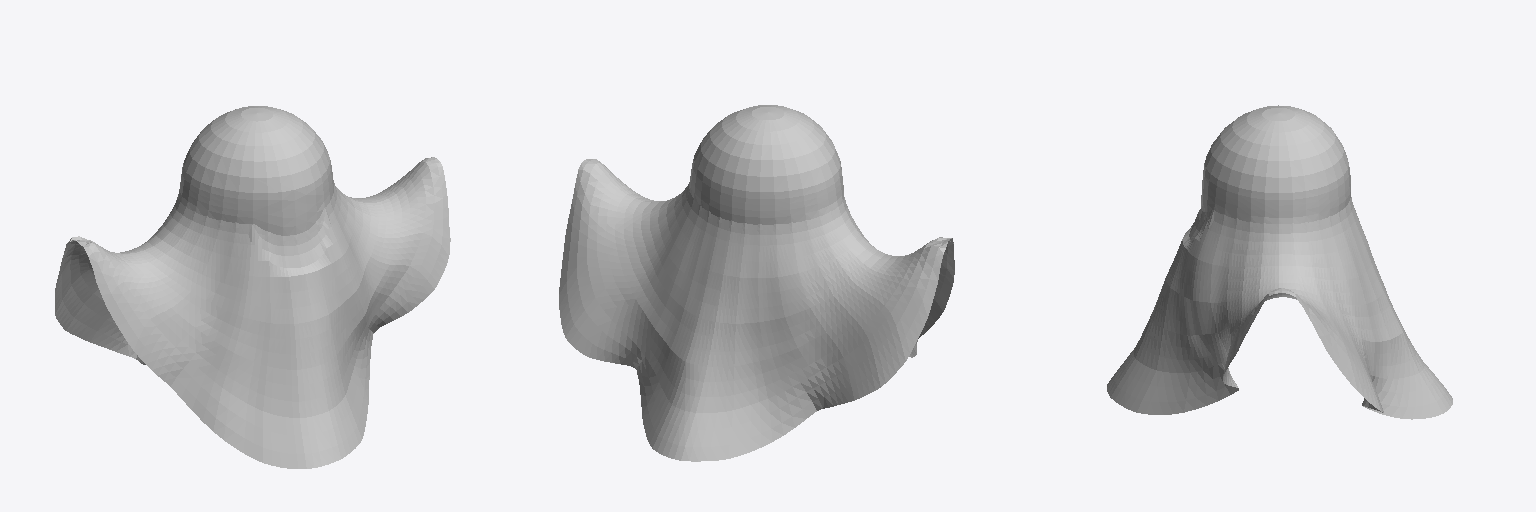
The model's file is ghost.obj.
The picture shows the model from 3 angles: view 1: azimuth 30°, elevation 25°; view 2: azimuth 150°, elevation 25°; view 3: azimuth 270°, elevation 25°; orthographic projection.
Parts seen in each view (by area): view 1: Sphere; view 2: Sphere; view 3: Sphere.
Part boxes in pixels (left/top/right/bottom): Sphere: left=55, top=106, right=450, bottom=468; Sphere: left=559, top=105, right=954, bottom=461; Sphere: left=1107, top=105, right=1452, bottom=419.
Bounding box in the file's own units: 4.9 × 3.66 × 4.03.